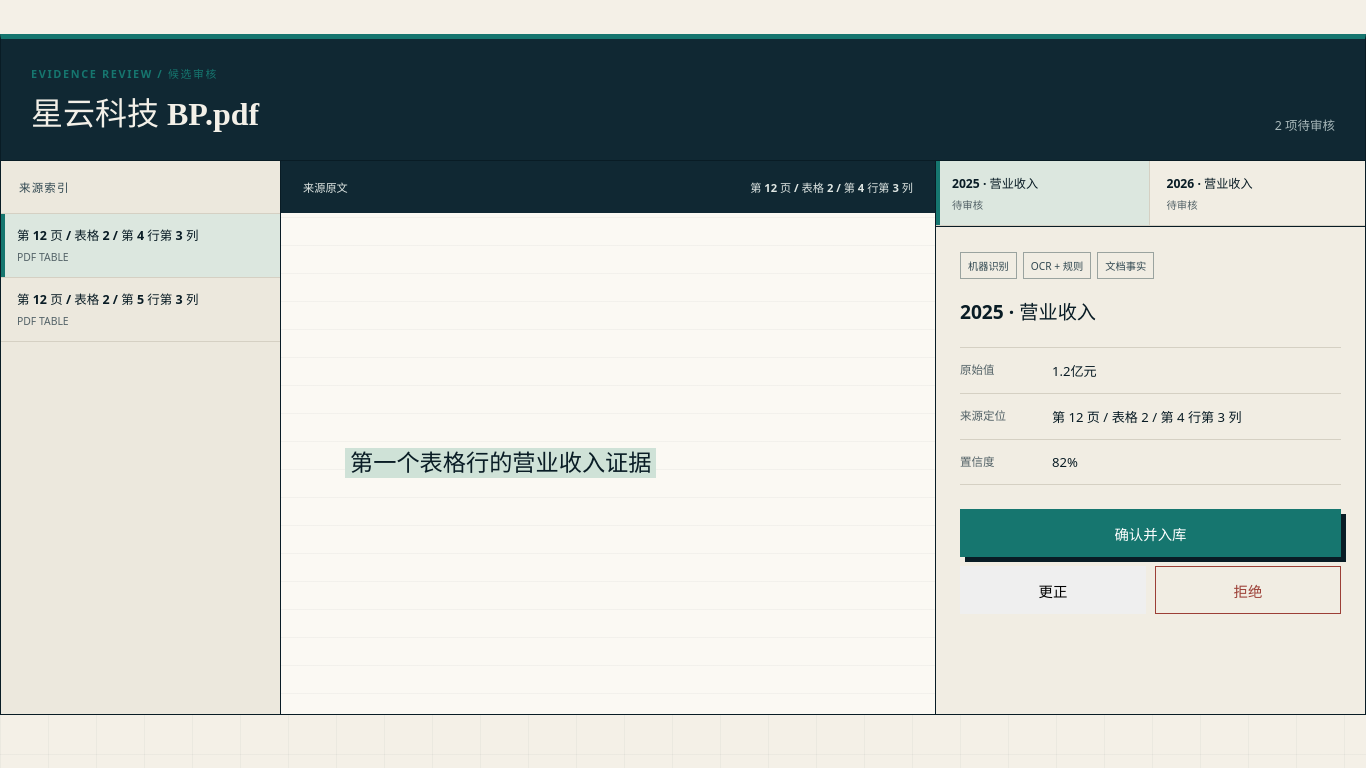
it: CandidateReviewWorkspace › advances to the next real fragment when another pending candidate shares the page
Check: the text "1.2亿元" is shown, box [1052,362,1097,380]
Click the button "确认并入库": coordinates (1150, 533) [960,509,1341,557]
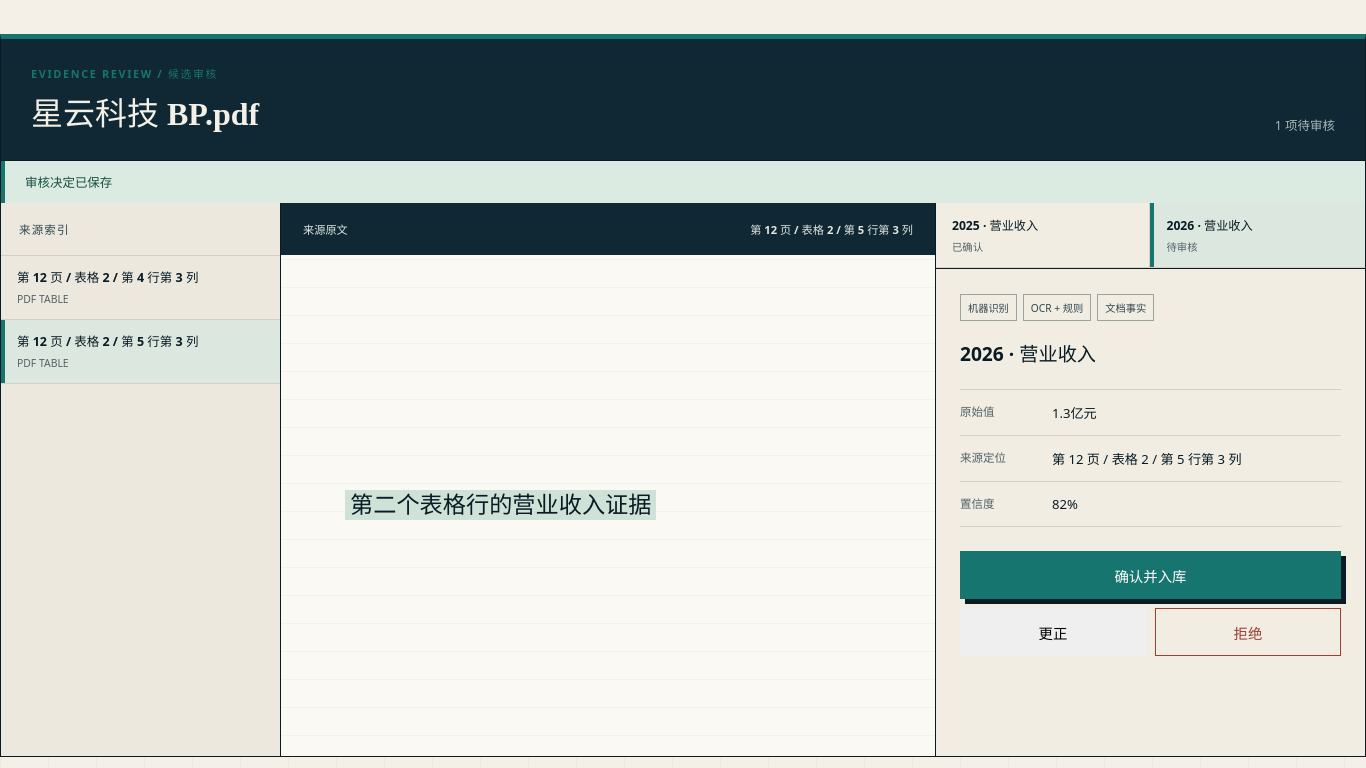
Check: the element named "来源原文预览" shows "第二个表格行的营业收入证据", box [350,492,651,518]
Check: the element named "来源原文预览" no longer shows "第一个表格行的营业收入证据", box [281,203,936,756]
Check: the element named "候选证据审核" shows "第 12 页 / 表格 2 / 第 5 行第 3 列", box [1052,450,1242,468]
